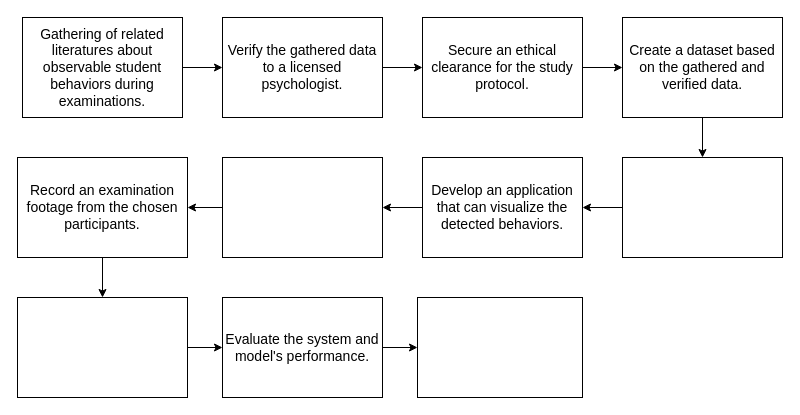
This 800x415 diagram has some shape labels left out. The shapes that lost their labels are listed below. From the top down, each one's centre as x and y in pixels, then its label:
At point (302, 207): "Integrate the AI models to the developed software.".
At point (702, 207): "Train an AI model (action recognition) based on the dataset created.".
At point (102, 347): "Import and analyze the video footage on the software.".
At point (499, 347): "Draw recommendations and conclusions based from the findings and evaluations.".
